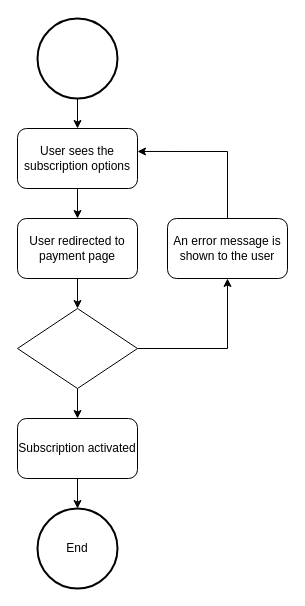
This 305x606 diagram has some shape labels left out. Here are the shapes that lost their labels. From the top down, the box of each, then its label:
(36, 17, 118, 99): Start
(16, 308, 138, 388): was payment successful or not
